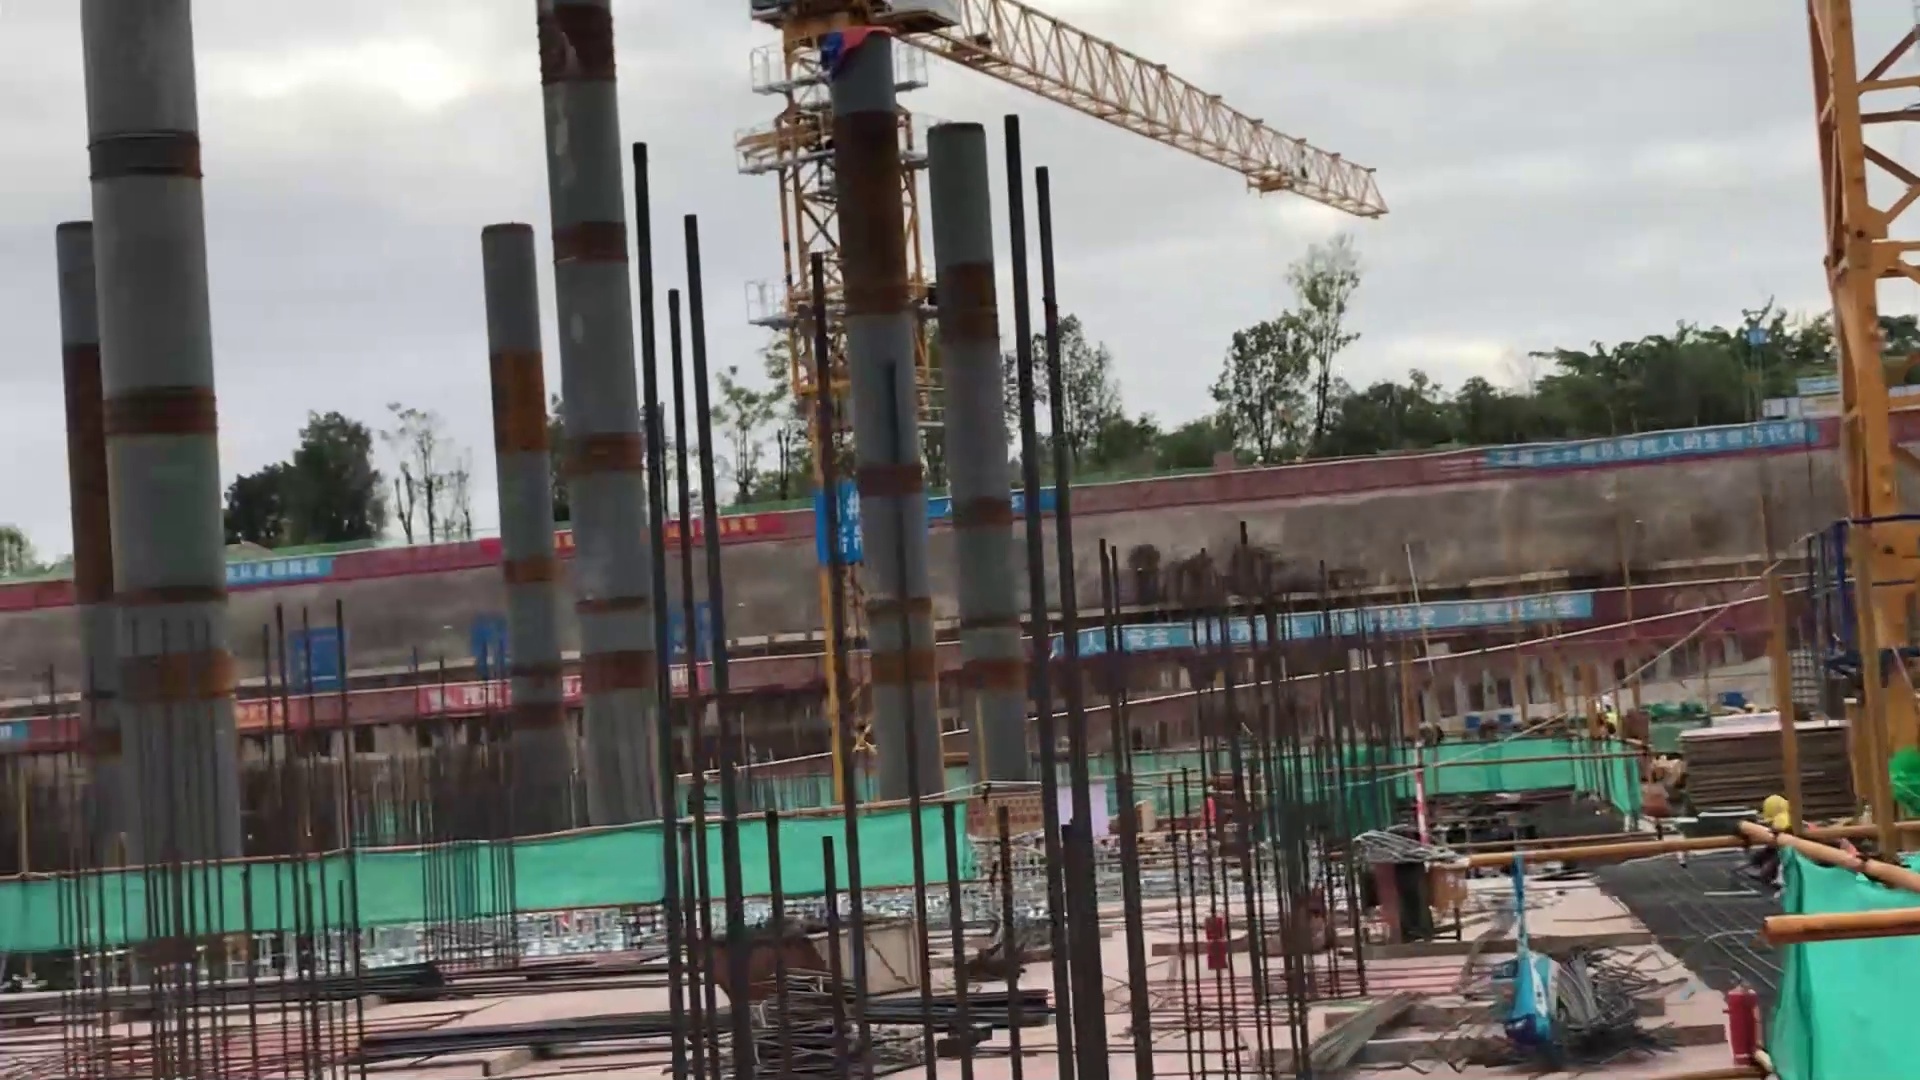fence: (1075, 448, 1472, 535), (340, 526, 506, 597)
hopper: (694, 913, 975, 1009)
slogan: (1001, 597, 1607, 654), (1447, 404, 1822, 487), (206, 545, 338, 601)
